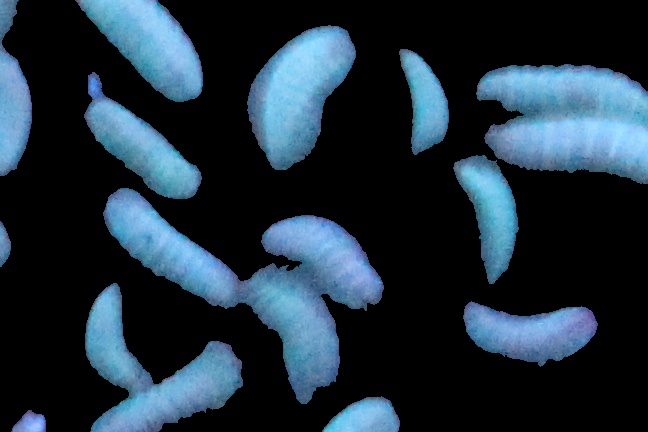larvae: (105, 189, 247, 315), (257, 15, 353, 173), (62, 1, 205, 103), (90, 344, 242, 432), (241, 269, 337, 407), (255, 217, 393, 311), (85, 101, 205, 201), (485, 111, 648, 181), (471, 54, 648, 116), (453, 159, 520, 292), (468, 301, 595, 367), (85, 283, 151, 392), (395, 44, 451, 161), (1, 40, 39, 184)
